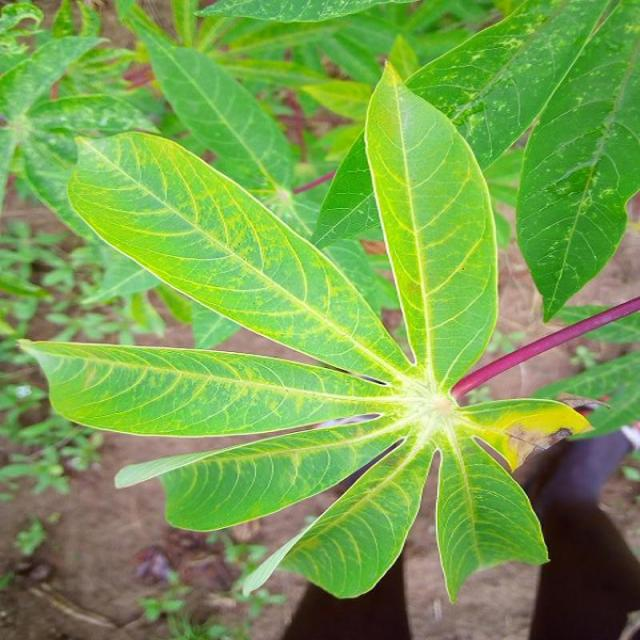Mosaico: (108, 107, 572, 563)
